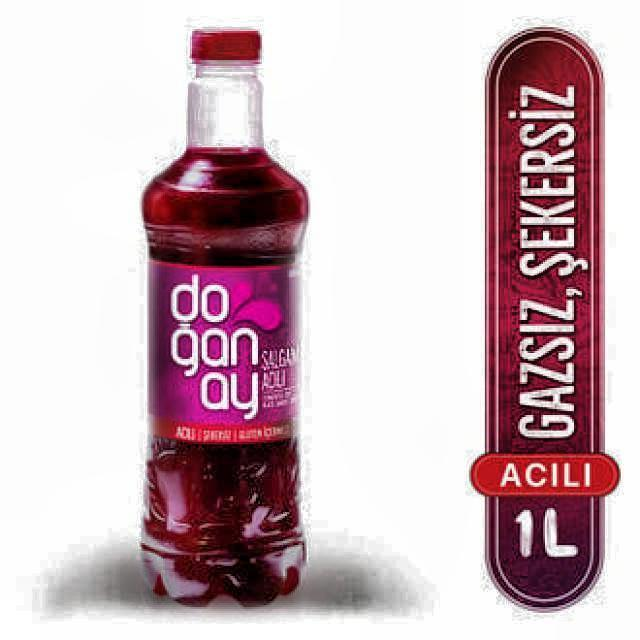plastic: (140, 27, 311, 611)
